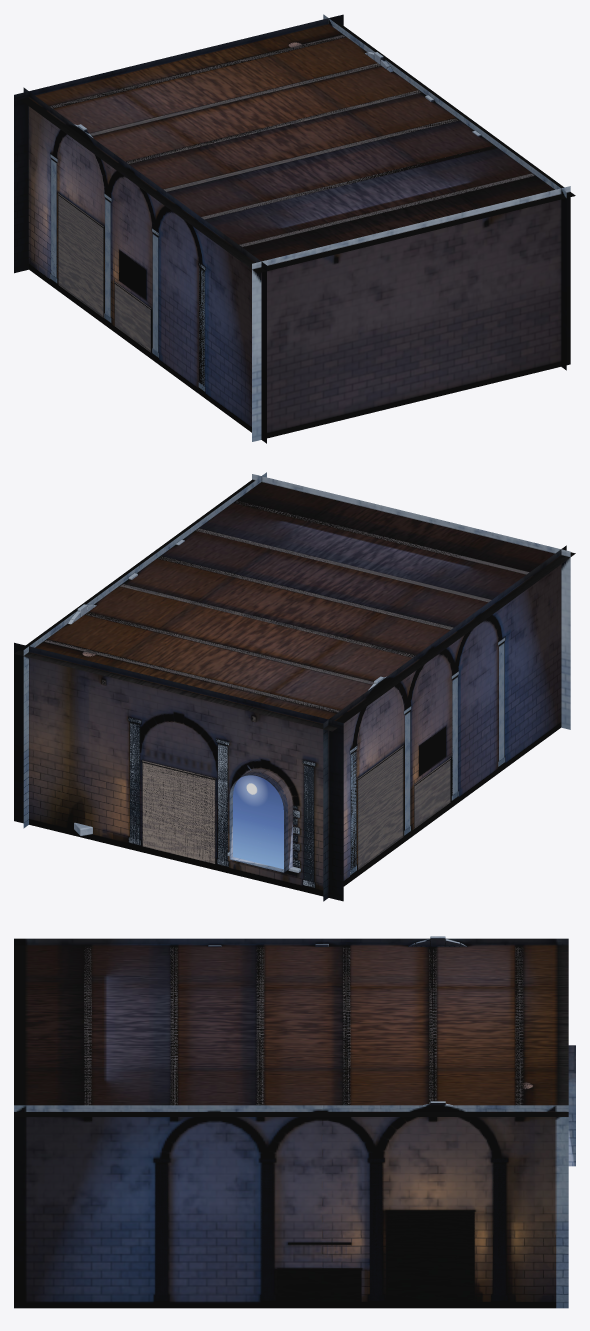
The model's file is workshop.glb.
3 views of the same model, one above another, from view 1: azimuth 30°, elevation 25°; view 2: azimuth 150°, elevation 25°; view 3: azimuth 270°, elevation 25° (orthographic). The views are drawn at different scales.
Parts seen in each view (by area): view 1: Baked_Room, Baked_Furn; view 2: Baked_Room, Baked_Furn, Emit_Window; view 3: Baked_Room, Baked_Furn.
Boxes of the visible parts, x1,y1,x2,y2 form: Baked_Room: (14,14,575,443); Baked_Furn: (58,193,151,352); Baked_Room: (14,472,575,901); Baked_Furn: (142,745,450,869); Emit_Window: (233,775,283,869); Baked_Room: (14,936,575,1308); Baked_Furn: (277,1210,475,1301).
Size of the model in its own units: 17.6 by 9.2 by 22.8.
10 materials, 5 textured.
